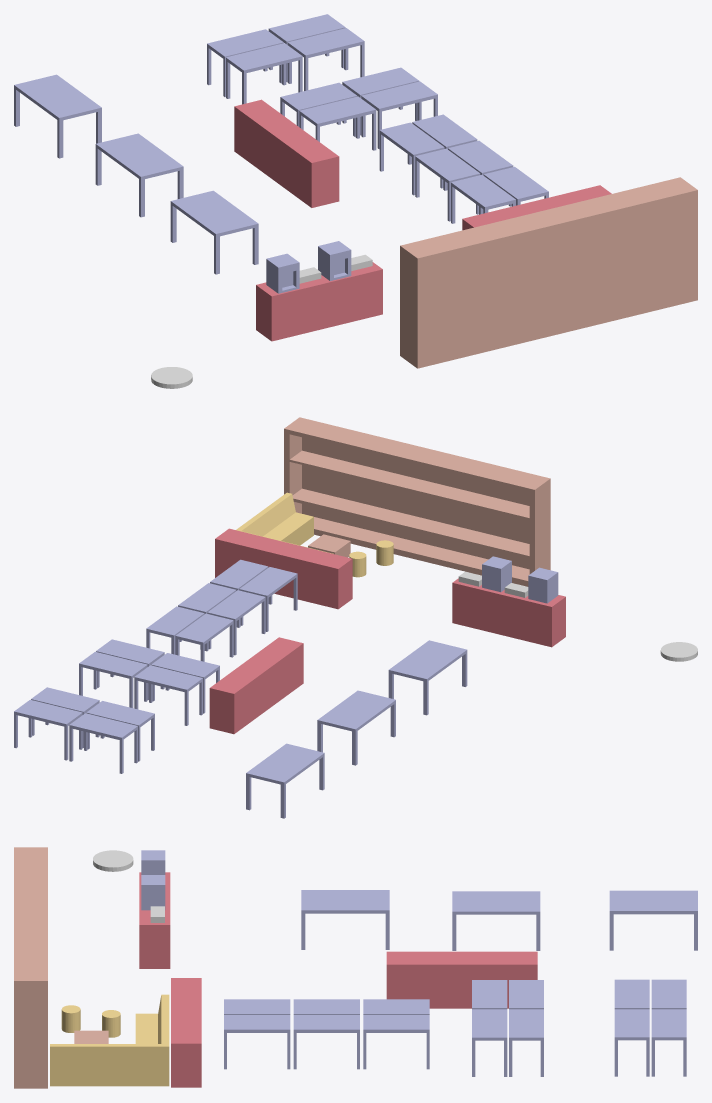
Rendered from greybox_detail.fbx.
3 views of the same model, one above another, from view 1: azimuth 30°, elevation 25°; view 2: azimuth 150°, elevation 25°; view 3: azimuth 270°, elevation 25° (orthographic). The views are drawn at different scales.
Visible parts, largest first — view 1: WallShelf, OfficeTables, Shelf, OfficeTables.002, CoffeeShelf, OfficeTables.001, MeetingTable.002, MeetingTable.001, MeetingTable, Shelf.001, CoffeeMachine, CoffeeMachine.001 (+1 smaller); view 2: WallShelf, OfficeTables, Shelf.001, Shelf, OfficeTables.002, OfficeTables.001, CoffeeShelf, MeetingTable, MeetingTable.001, MeetingTable.002, Sofa, CoffeeMachine (+3 smaller); view 3: WallShelf, OfficeTables, Shelf, Sofa, OfficeTables.002, OfficeTables.001, Shelf.001, MeetingTable, MeetingTable.001, MeetingTable.002, CoffeeShelf, CoffeeMachine.001 (+5 smaller).
Boxes of the visible parts, bbox=[...] form: WallShelf: bbox=[400, 177, 697, 368]; OfficeTables: bbox=[379, 114, 548, 223]; Shelf: bbox=[234, 99, 339, 207]; OfficeTables.002: bbox=[207, 14, 364, 104]; CoffeeShelf: bbox=[256, 262, 382, 341]; OfficeTables.001: bbox=[280, 67, 437, 150]; MeetingTable.002: bbox=[170, 190, 258, 274]; MeetingTable.001: bbox=[95, 133, 183, 217]; MeetingTable: bbox=[14, 74, 101, 158]; Shelf.001: bbox=[462, 185, 611, 230]; CoffeeMachine: bbox=[266, 253, 299, 293]; CoffeeMachine.001: bbox=[318, 241, 351, 280]; WallShelf: bbox=[284, 417, 550, 586]; OfficeTables: bbox=[146, 559, 297, 661]; Shelf.001: bbox=[215, 528, 352, 609]; Shelf: bbox=[209, 637, 303, 734]; OfficeTables.002: bbox=[14, 687, 154, 773]; OfficeTables.001: bbox=[79, 639, 219, 725]; CoffeeShelf: bbox=[452, 578, 565, 647]; MeetingTable: bbox=[246, 743, 324, 818]; MeetingTable.001: bbox=[317, 690, 395, 765]; MeetingTable.002: bbox=[388, 640, 467, 715]; Sofa: bbox=[236, 492, 333, 553]; CoffeeMachine: bbox=[528, 567, 558, 603]; WallShelf: bbox=[14, 847, 47, 1088]; OfficeTables: bbox=[224, 999, 429, 1069]; Shelf: bbox=[386, 951, 537, 1008]; Sofa: bbox=[50, 994, 169, 1086]; OfficeTables.002: bbox=[614, 979, 686, 1076]; OfficeTables.001: bbox=[472, 980, 543, 1076]; Shelf.001: bbox=[171, 978, 201, 1087]; MeetingTable: bbox=[609, 890, 697, 950]; MeetingTable.001: bbox=[452, 891, 540, 950]; MeetingTable.002: bbox=[301, 890, 389, 949]; CoffeeShelf: bbox=[139, 872, 170, 968]; CoffeeMachine.001: bbox=[141, 875, 165, 910].
Size of the model in its own units: 2220 by 389 by 1803.
